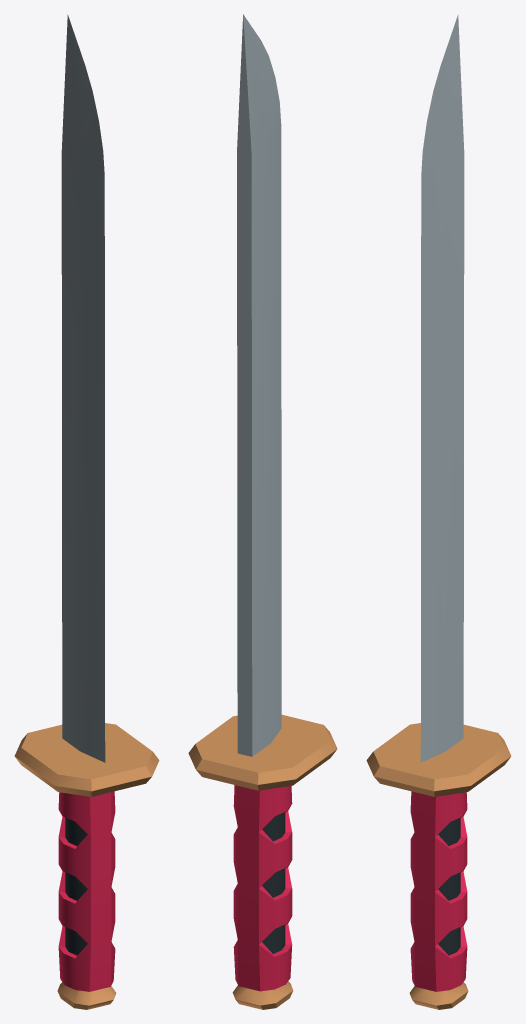
File: katana.gltf.glb
The picture shows the model from 3 angles, left to right: view 1: azimuth 30°, elevation 25°; view 2: azimuth 150°, elevation 25°; view 3: azimuth 330°, elevation 25°; orthographic projection. The views are drawn at different scales.
Visible parts, largest first — view 1: katana; view 2: katana; view 3: katana.
Part boxes in pixels (left/top/right/bottom): katana: left=14, top=14, right=159, bottom=1009; katana: left=188, top=14, right=337, bottom=1009; katana: left=366, top=14, right=511, bottom=1009.
Size of the model in its own units: 0.1708 by 1.53 by 0.1983.
